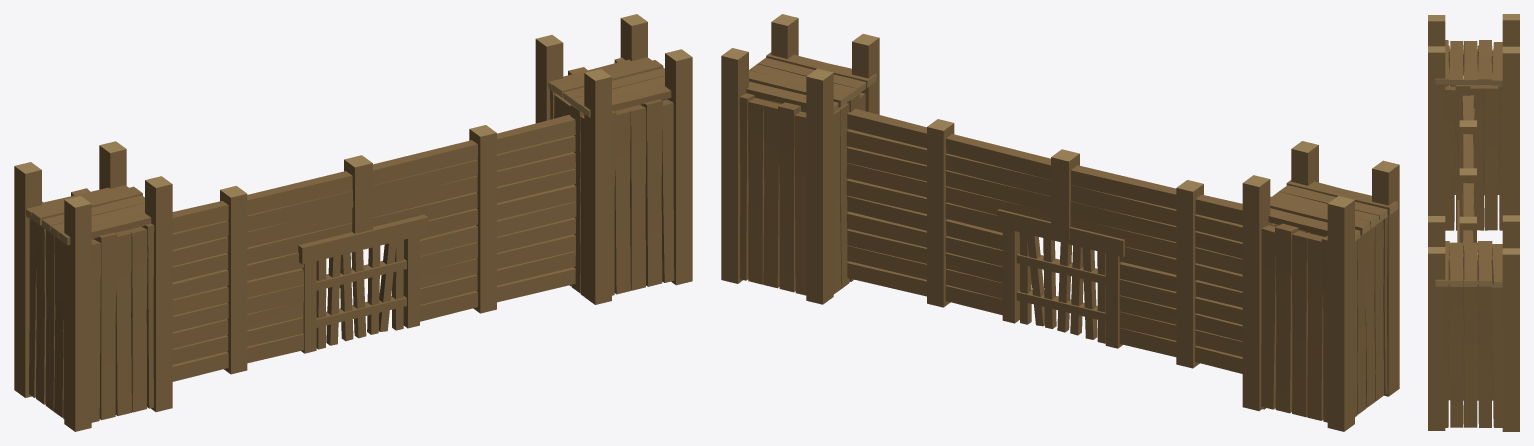
The model's file is quaternius-real-time-strategy-wall-towers-door-closed-first-age.glb.
The picture shows the model from 3 angles, left to right: view 1: azimuth 30°, elevation 25°; view 2: azimuth 150°, elevation 25°; view 3: azimuth 270°, elevation 25°; orthographic projection. The views are drawn at different scales.
Visible parts, largest first — view 1: WallTowers_DoorClosed_FirstAge; view 2: WallTowers_DoorClosed_FirstAge; view 3: WallTowers_DoorClosed_FirstAge.
Boxes of the visible parts, box(x1,y1,x2,y2) form: WallTowers_DoorClosed_FirstAge: box(14, 14, 692, 431); WallTowers_DoorClosed_FirstAge: box(721, 14, 1399, 431); WallTowers_DoorClosed_FirstAge: box(1428, 14, 1519, 431).
Size of the model in its own units: 1.94 by 0.6724 by 0.3134.
